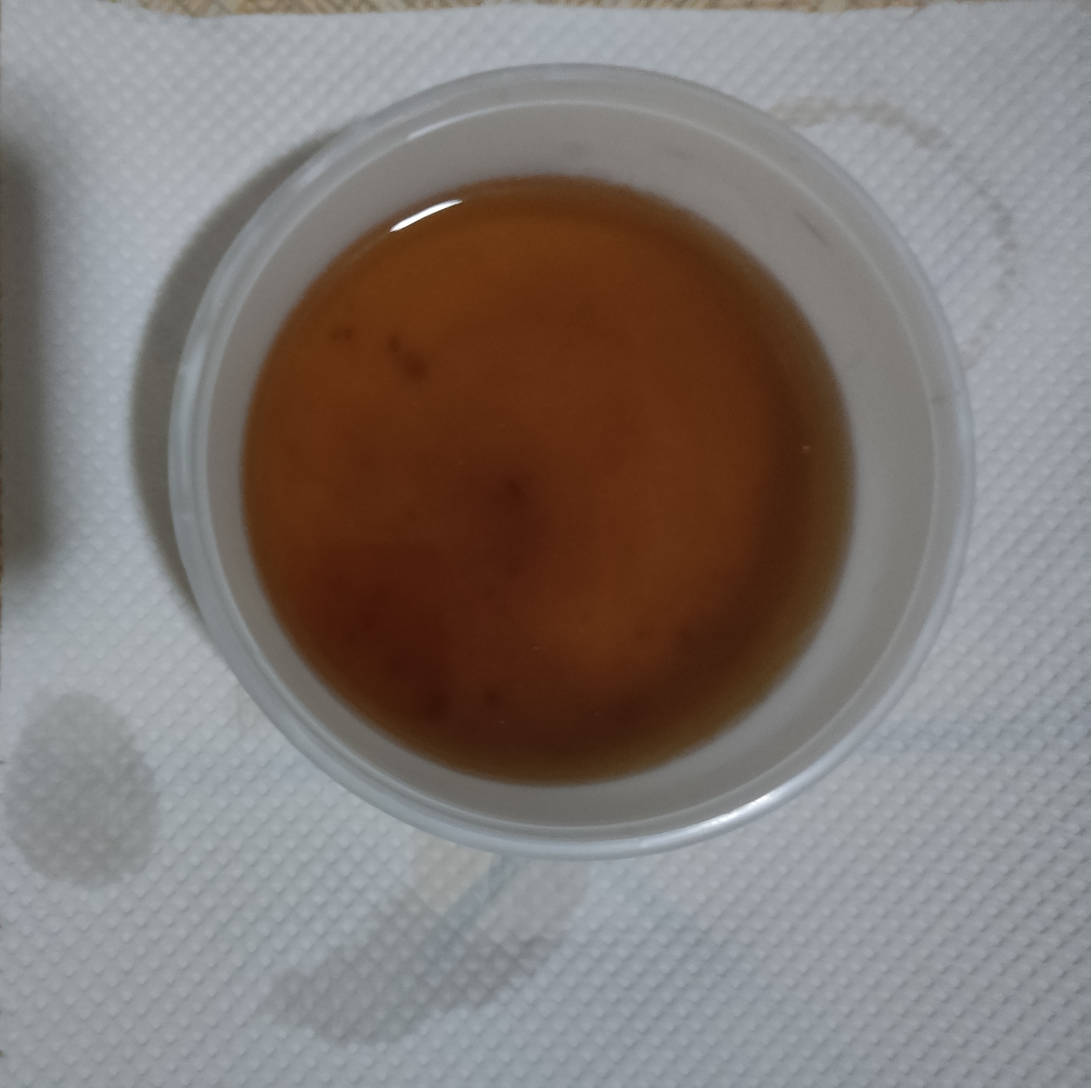non-reusable: (249, 177, 854, 787)
